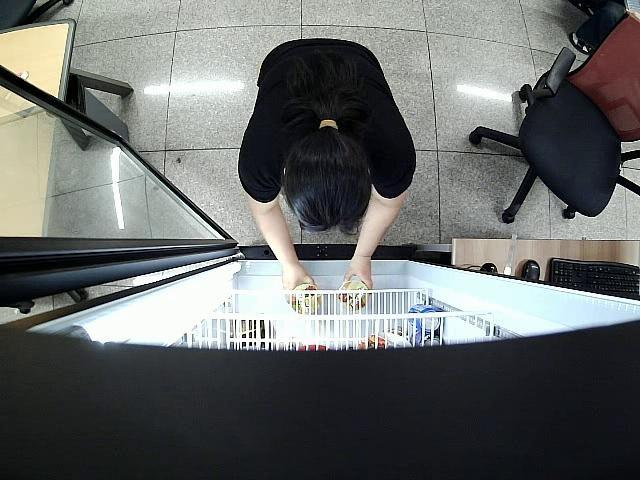04_chapagetti_S: (290, 282, 323, 313), (341, 280, 370, 310)
